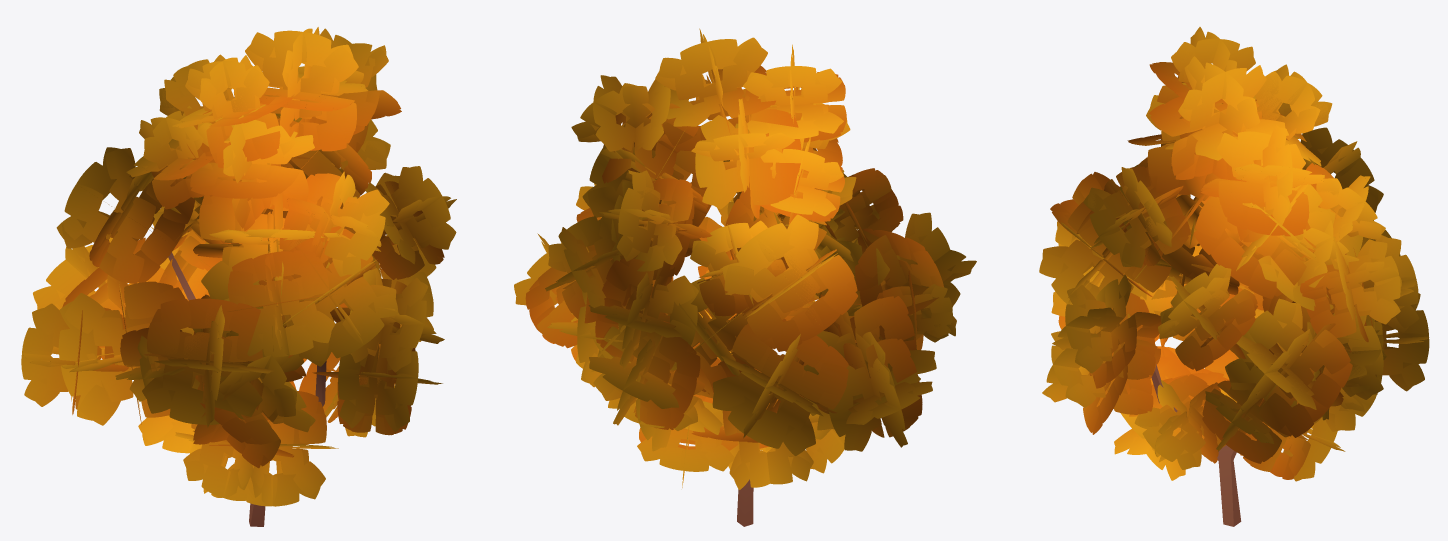
The model's file is TSP_Bush_02B.fbx.
The picture shows the model from 3 angles, left to right: view 1: azimuth 30°, elevation 25°; view 2: azimuth 150°, elevation 25°; view 3: azimuth 270°, elevation 25°; orthographic projection. The views are drawn at different scales.
Parts seen in each view (by area): view 1: TSP_Bush_02B; view 2: TSP_Bush_02B; view 3: TSP_Bush_02B.
Boxes of the visible parts, x1,y1,x2,y2 form: TSP_Bush_02B: [21, 27, 456, 526]; TSP_Bush_02B: [514, 28, 976, 526]; TSP_Bush_02B: [1039, 27, 1429, 526].
Size of the model in its own units: 1.76 by 1.89 by 1.46.
